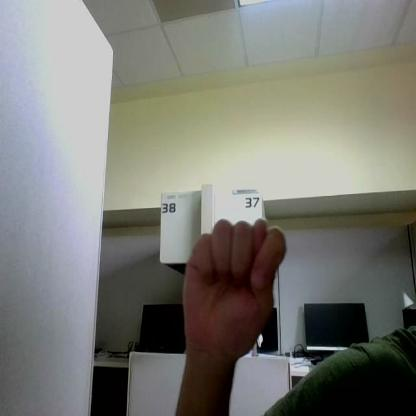T: (183, 218, 286, 357)
